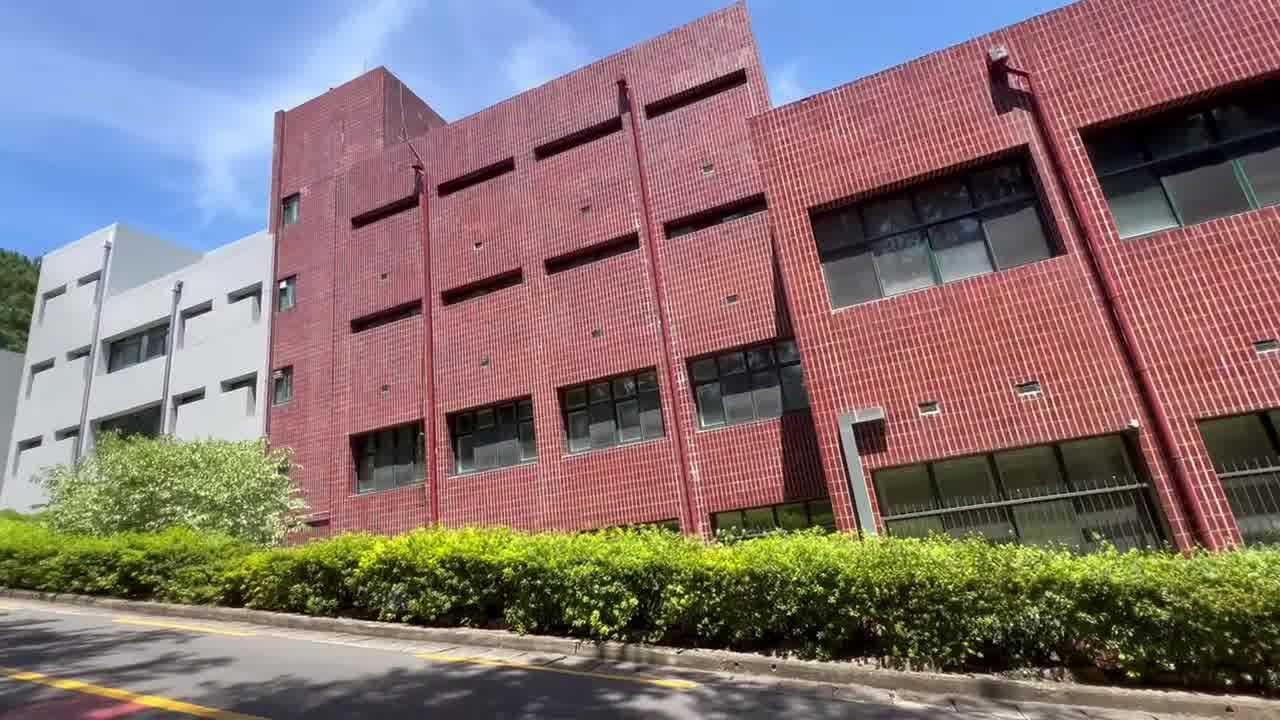building: (79, 4, 1271, 452)
